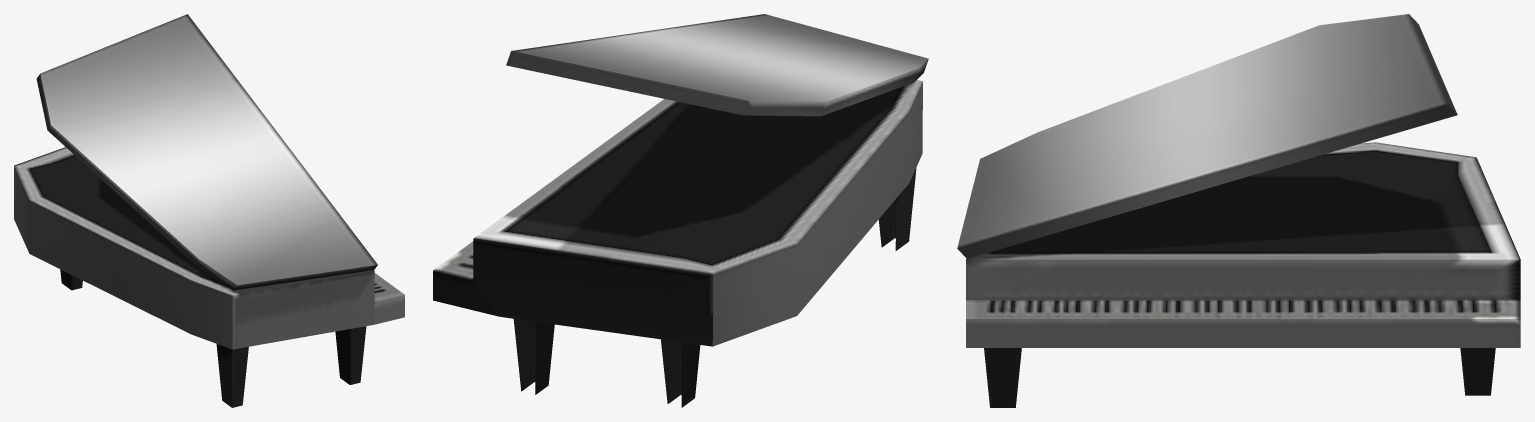
The model's file is Tx_Props_Piano_MusicDept.fbx.
3 renders of one model, left to right at view 1: azimuth 30°, elevation 25°; view 2: azimuth 150°, elevation 25°; view 3: azimuth 270°, elevation 25°, orthographic. The views are drawn at different scales.
Visible parts, largest first — view 1: Tx_Props_Piano_MusicDept; view 2: Tx_Props_Piano_MusicDept; view 3: Tx_Props_Piano_MusicDept.
Part boxes in pixels (bbox=[...]): Tx_Props_Piano_MusicDept: bbox=[14, 14, 404, 407]; Tx_Props_Piano_MusicDept: bbox=[433, 14, 928, 407]; Tx_Props_Piano_MusicDept: bbox=[957, 14, 1520, 407].
Size of the model in its own units: 8.88 by 9.3 by 15.51.
